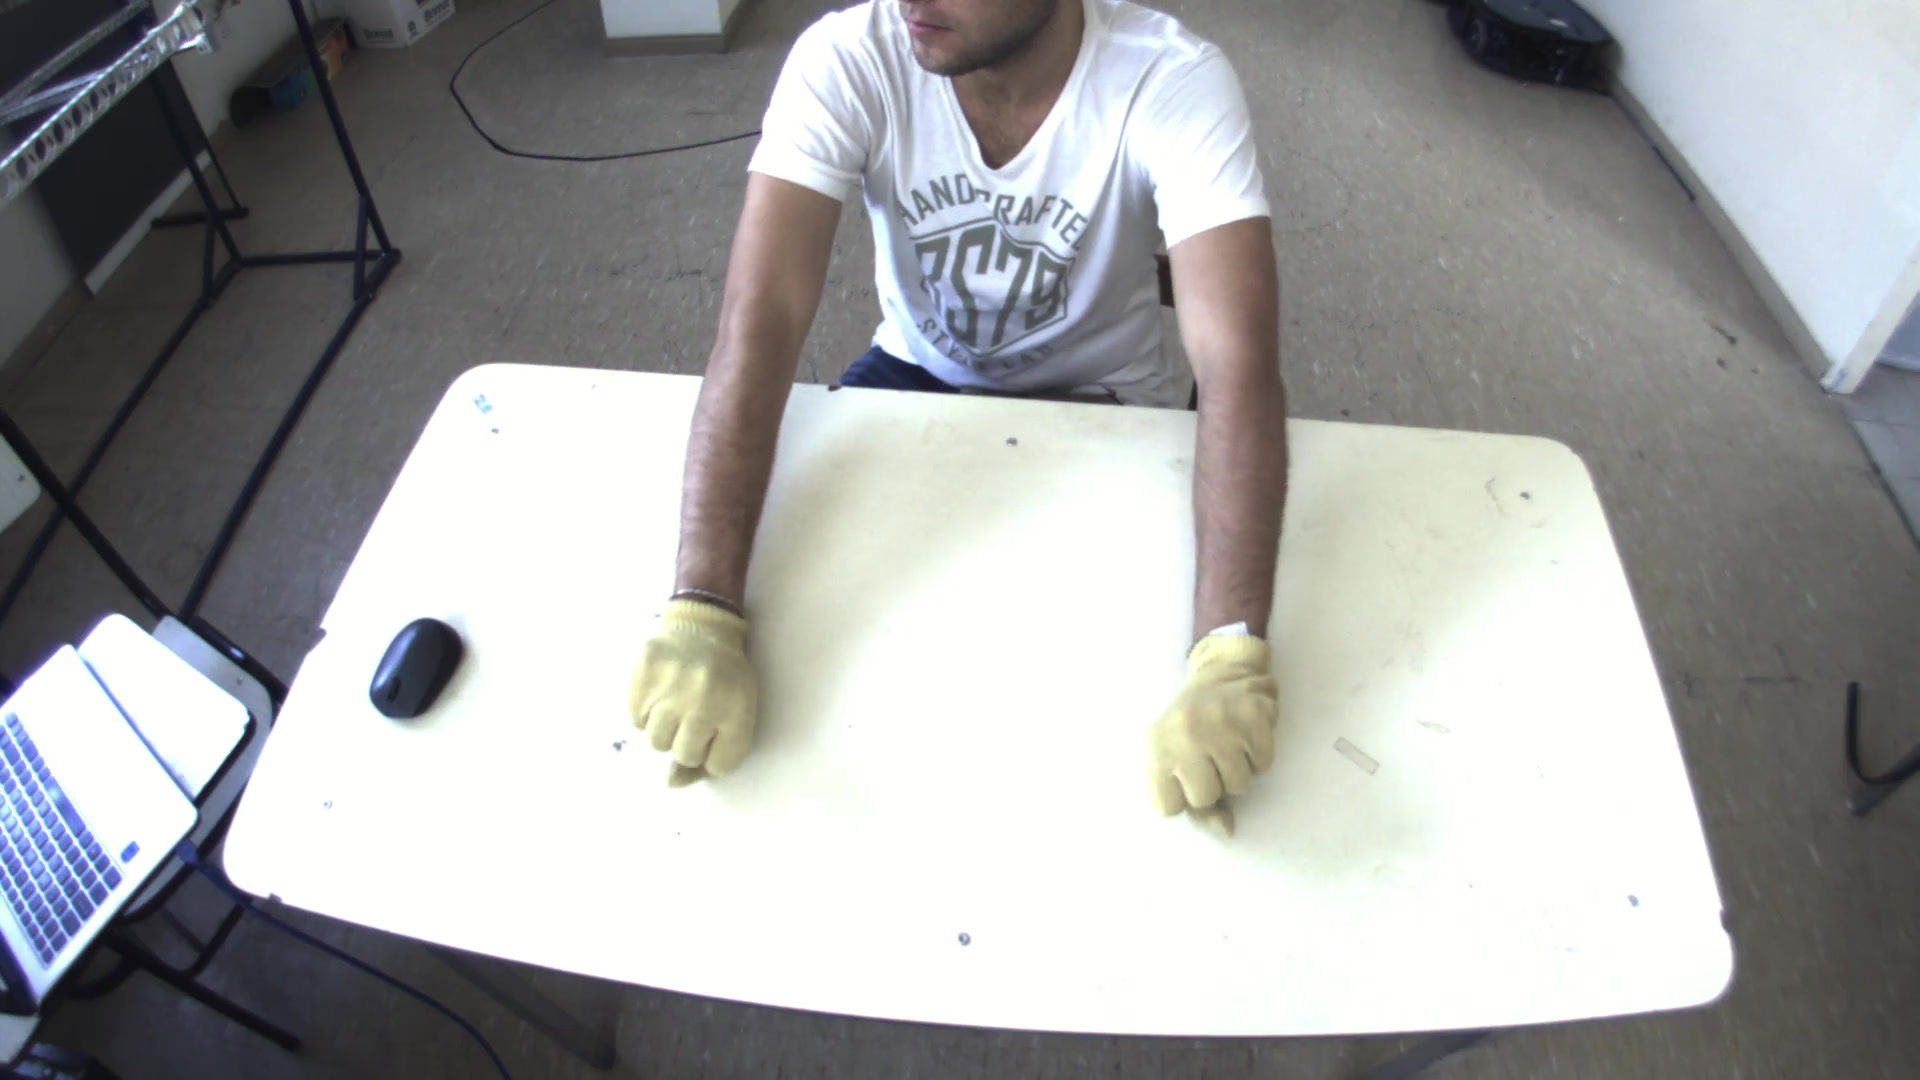hand: (1138, 620, 1298, 824), (615, 582, 770, 787)
